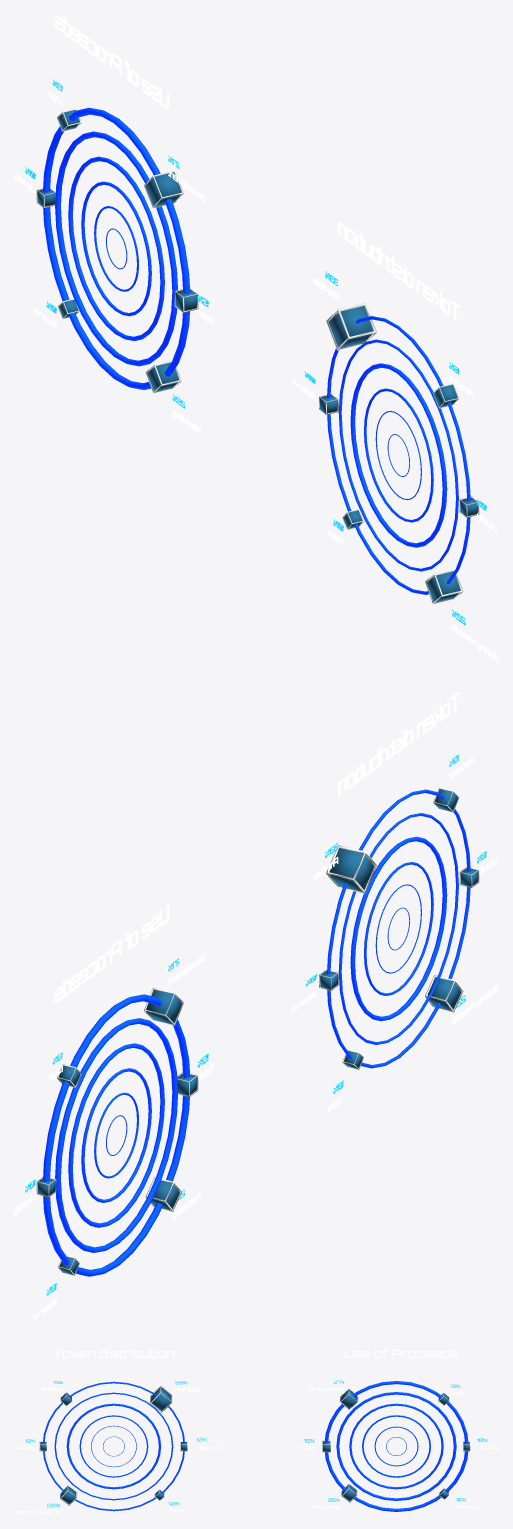
File: tokenModel.glb
The picture shows the model from 3 angles, top to bottom: view 1: azimuth 30°, elevation 25°; view 2: azimuth 150°, elevation 25°; view 3: azimuth 270°, elevation 25°; orthographic projection. The views are drawn at different scales.
Parts seen in each view (by area): view 1: Right, Circle.006, Circle.002, Circle.005, Left, Circle.001, Cube.004, Text.010, Text.011, Circle.004, Circle.003, Cube.006 (+2 smaller); view 2: Right, Circle.006, Circle.005, Left, Circle.002, Circle.001, Cube.004, Text.010, Text.011, Circle.004, Circle.003, Cube.006 (+2 smaller); view 3: Right, Circle.006, Left, Circle.002, Circle.005, Circle.001, Text.010, Text.011, Circle.004, Cube.004, Circle.003, Cube.006 (+3 smaller).
Part boxes in pixels (x1,y1,x2,y2): Right: (43, 107, 190, 389); Circle.006: (55, 131, 177, 366); Circle.002: (350, 363, 447, 547); Circle.005: (68, 156, 164, 341); Left: (327, 316, 470, 594); Circle.001: (338, 339, 458, 571); Cube.004: (326, 303, 376, 350); Text.010: (338, 222, 460, 319); Text.011: (54, 14, 169, 109); Circle.004: (81, 181, 151, 316); Circle.003: (364, 388, 433, 522); Cube.006: (144, 170, 183, 208); Right: (43, 994, 190, 1276); Circle.006: (55, 1018, 178, 1252); Circle.005: (68, 1043, 164, 1227); Left: (327, 789, 470, 1068); Circle.002: (350, 836, 447, 1021); Circle.001: (338, 813, 458, 1044); Cube.004: (326, 845, 376, 893); Text.010: (338, 691, 460, 795); Text.011: (54, 904, 169, 1002); Circle.004: (81, 1068, 151, 1202); Circle.003: (364, 862, 433, 995); Cube.006: (144, 987, 183, 1025); Right: (324, 1381, 468, 1511); Circle.006: (336, 1392, 456, 1500); Left: (43, 1381, 184, 1511); Circle.002: (66, 1403, 161, 1489); Circle.005: (349, 1403, 443, 1489); Circle.001: (54, 1392, 173, 1500); Text.010: (53, 1349, 174, 1357); Text.011: (344, 1349, 458, 1357); Circle.004: (362, 1415, 430, 1477); Cube.004: (150, 1386, 172, 1412); Circle.003: (79, 1415, 148, 1477); Cube.006: (340, 1388, 358, 1409).
Bounding box in the file's own units: 0.2745 × 3.09 × 8.2.
